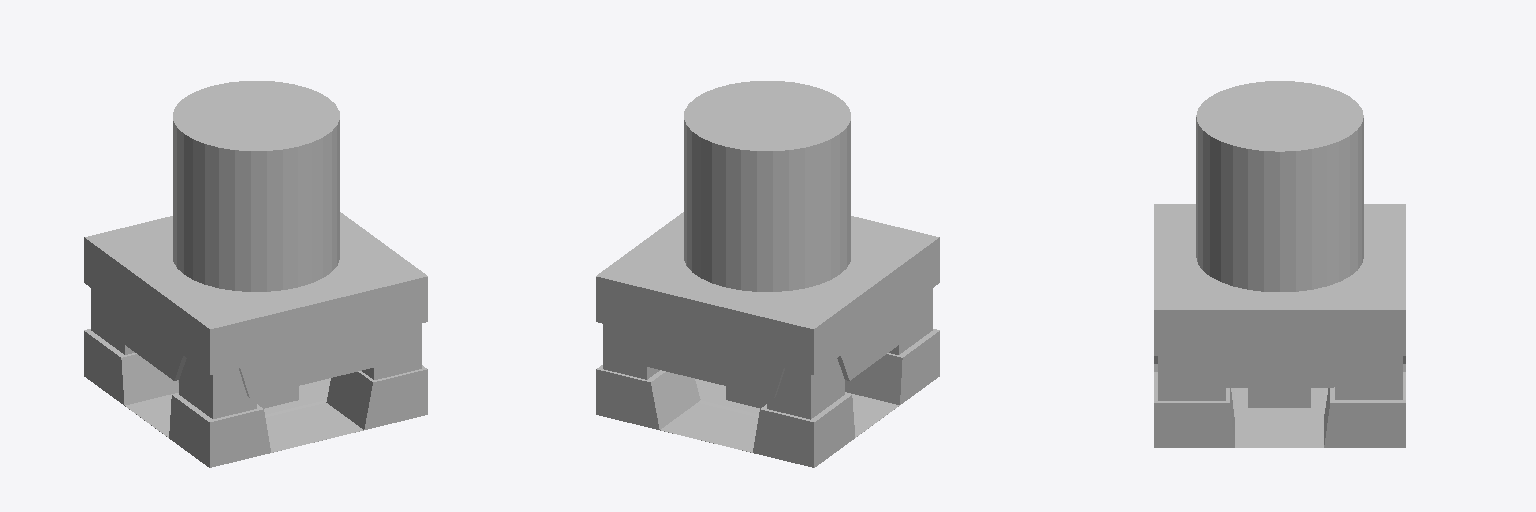
Rendered from collector.obj.
3 renders of one model, left to right at view 1: azimuth 30°, elevation 25°; view 2: azimuth 150°, elevation 25°; view 3: azimuth 270°, elevation 25°, orthographic.
Parts seen in each view (by area): view 1: Cube_Cube.001, Cylinder; view 2: Cube_Cube.001, Cylinder; view 3: Cube_Cube.001, Cylinder.
Part boxes in pixels (bbox=[...]): Cube_Cube.001: bbox=[84, 212, 427, 467]; Cylinder: bbox=[173, 81, 339, 291]; Cube_Cube.001: bbox=[596, 212, 939, 467]; Cylinder: bbox=[684, 81, 850, 291]; Cube_Cube.001: bbox=[1154, 204, 1405, 447]; Cylinder: bbox=[1196, 81, 1363, 291].
Size of the model in its own units: 1 by 1.23 by 1.